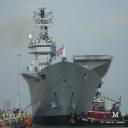Portanaves: (21, 1, 116, 126)
